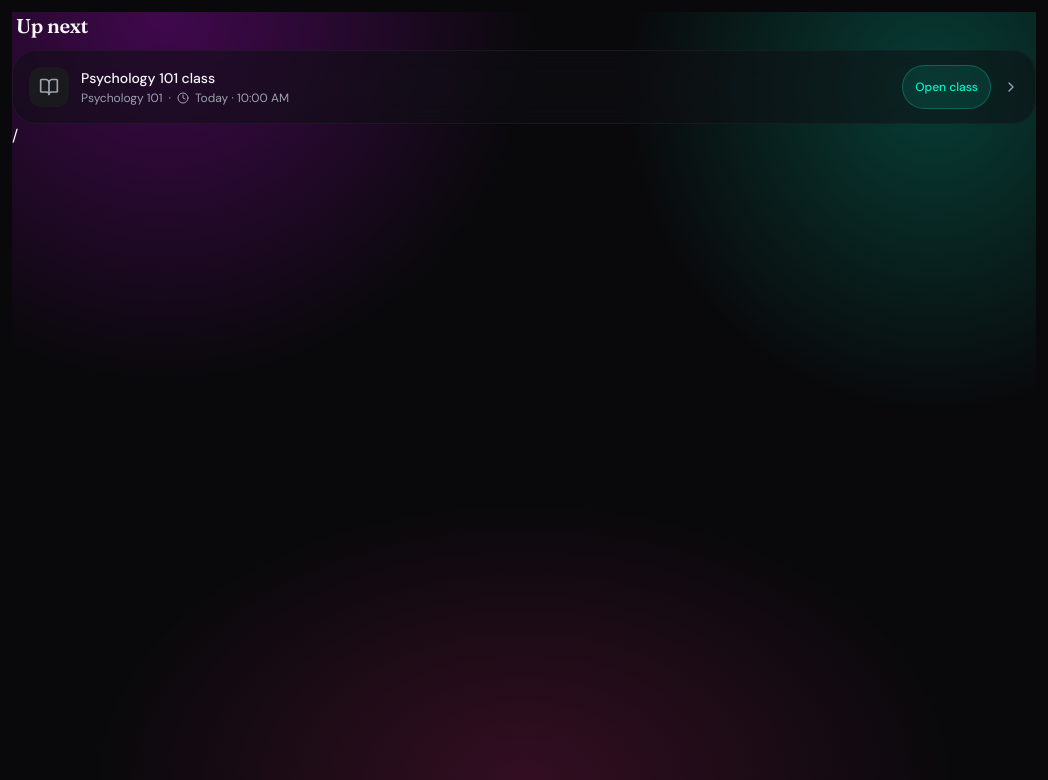
it: DemoTodaysPlan › opens the matching class without promising unaligned assignment or exam destinations
Click the button with aria-label "Open Psychology 101".
click(49, 87)  # box [13,51,1035,123]
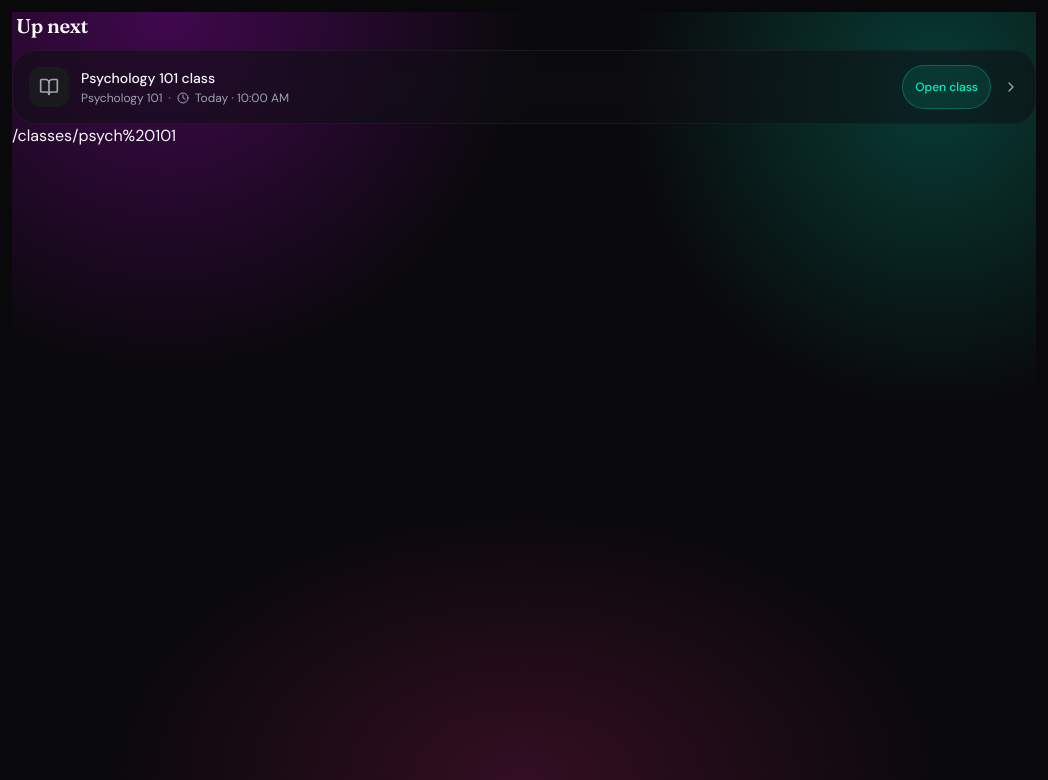
Expected: the text with test id "location" reads "/classes/psych%20101", [12,125,176,146]
